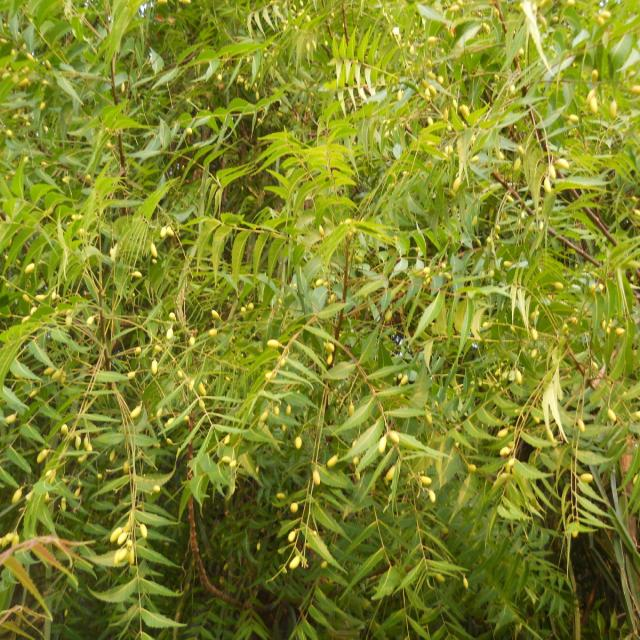Medicinal-Neem: (88, 78, 640, 571)
